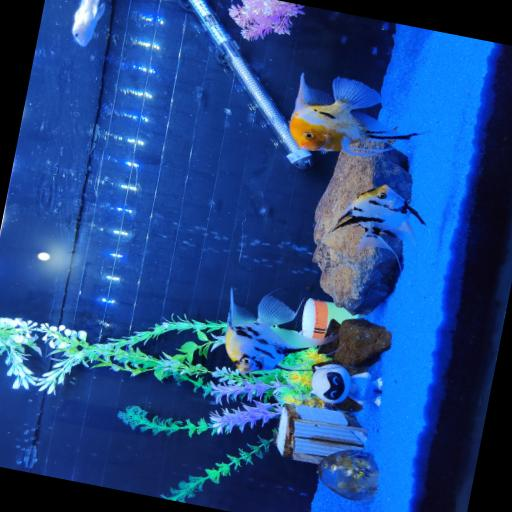Fish: (290, 73, 417, 156), (226, 288, 338, 372), (324, 184, 426, 266), (72, 0, 105, 45)
